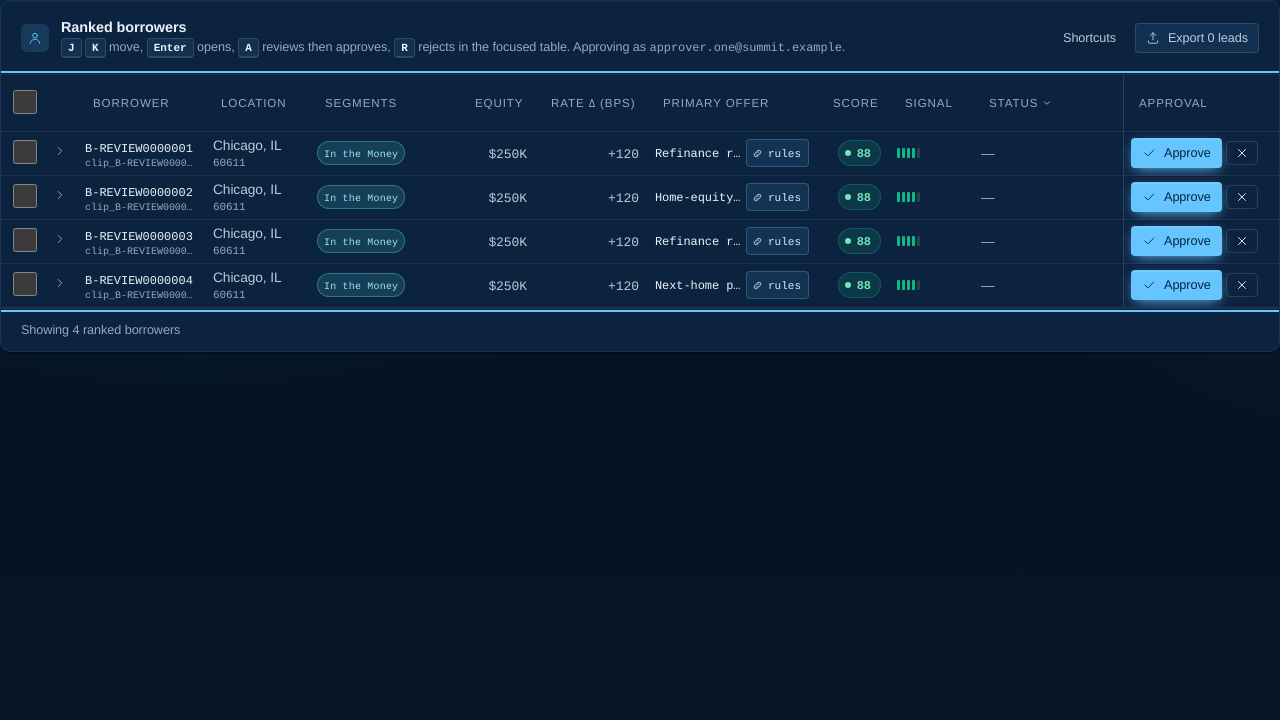
Test: LeadTable approve review › Confirm approves that exact draft, pessimistically, then offers the receipt and advances the cursor
Press j in the element with class "tbl-wrap", box [1, 75, 1279, 308]
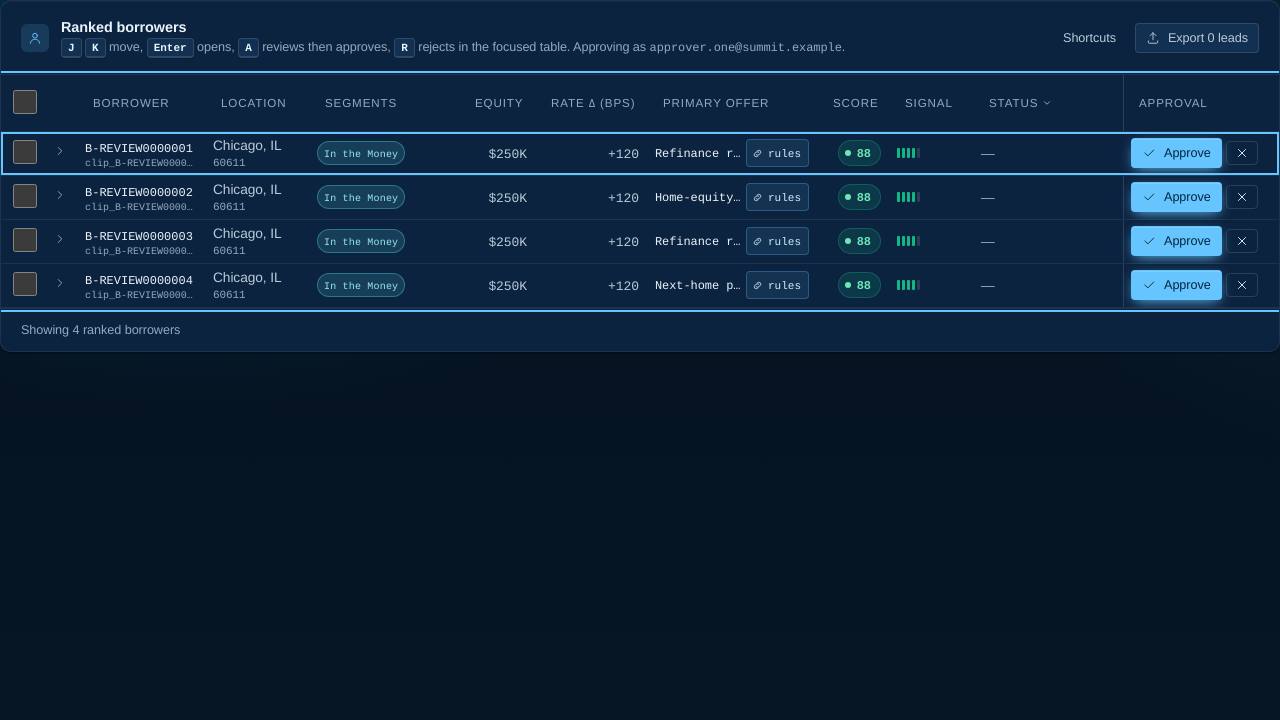
Press a in the element with class "tbl-wrap", box [1, 75, 1279, 308]
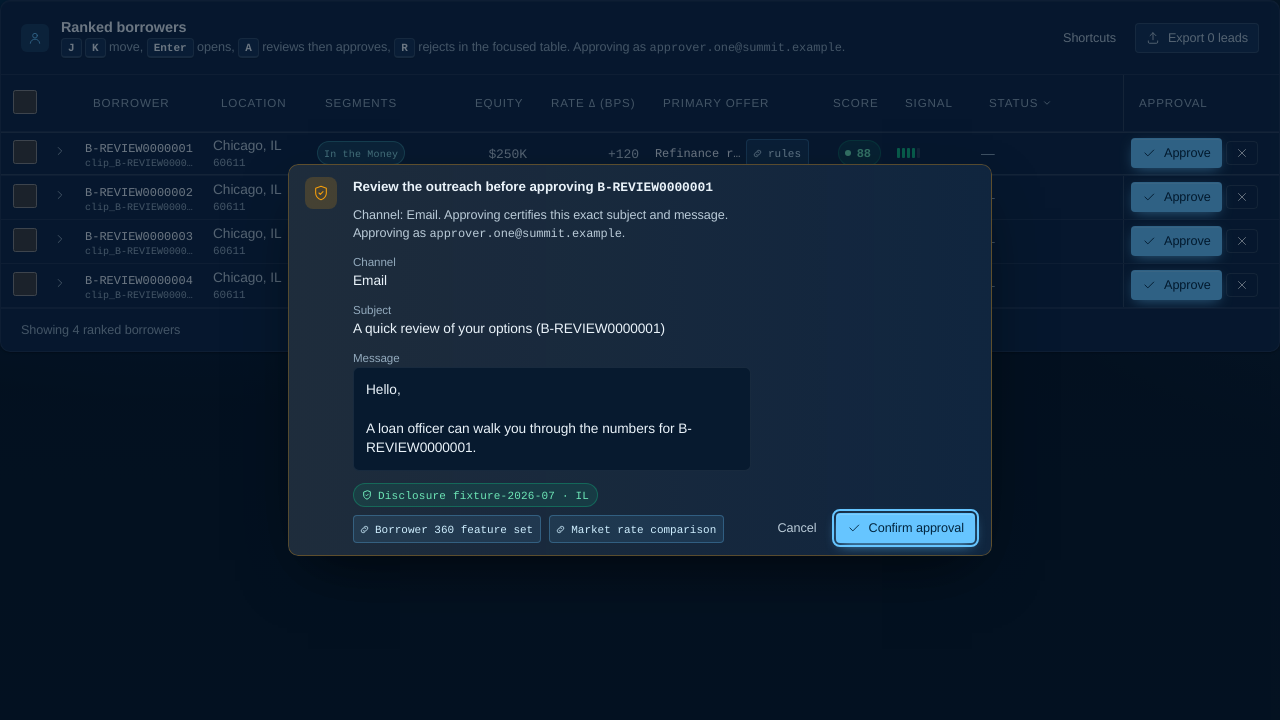
Click the button with test id "lead-approve-review-confirm".
click(905, 528)  # box [836, 513, 975, 543]
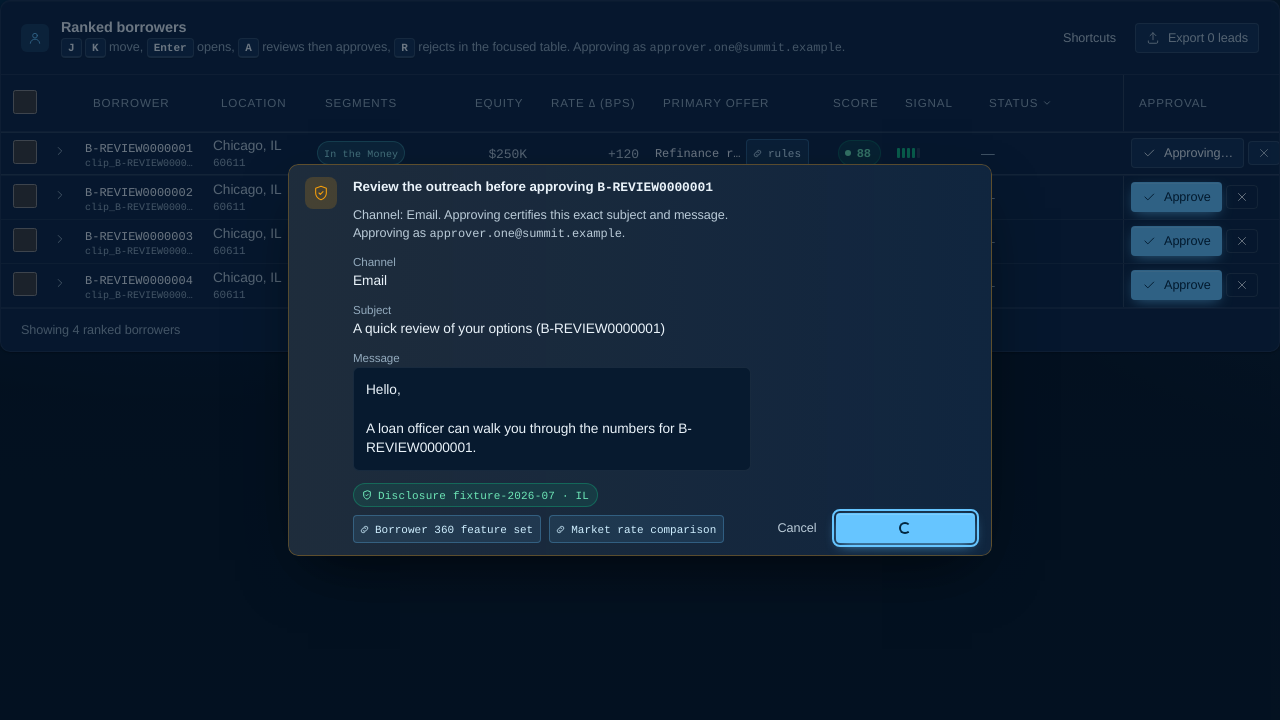
expect the button with test id "lead-approve-review-confirm" is enabled: met
Click the button with test id "lead-approve-review-confirm".
click(905, 528)  # box [836, 513, 975, 543]
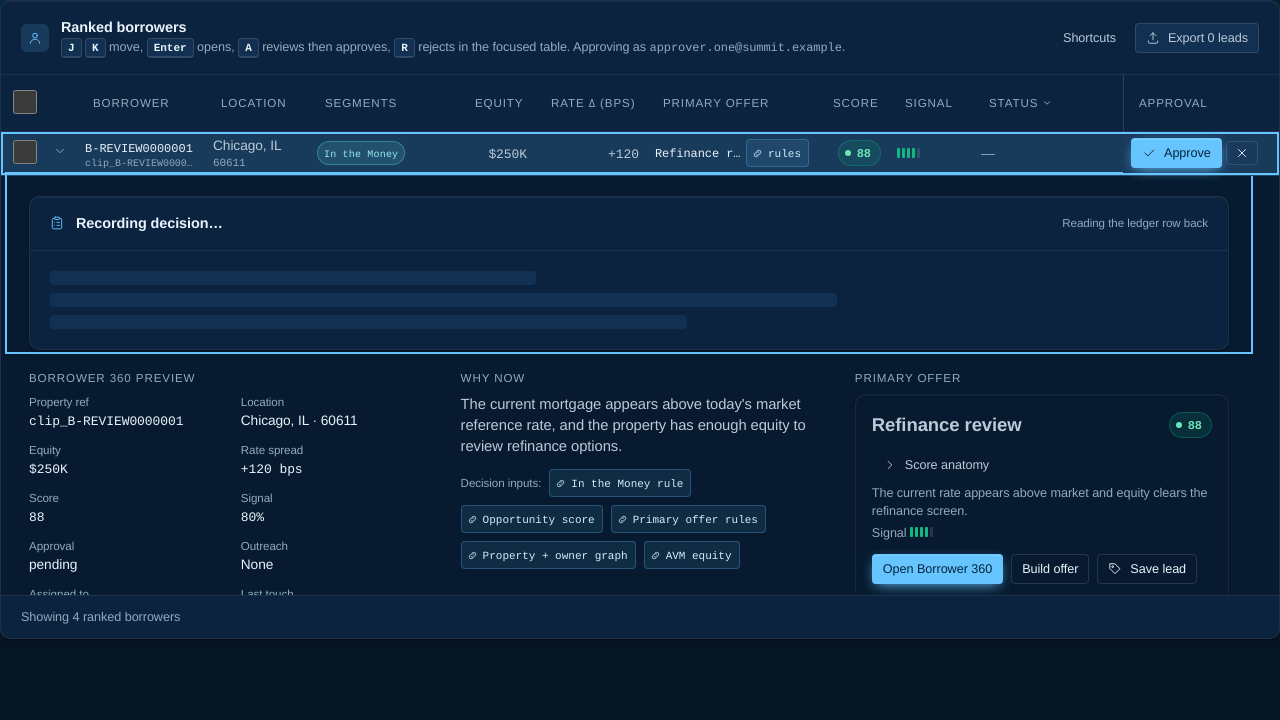
expect the form with test id "lead-approve-review" is gone: met
